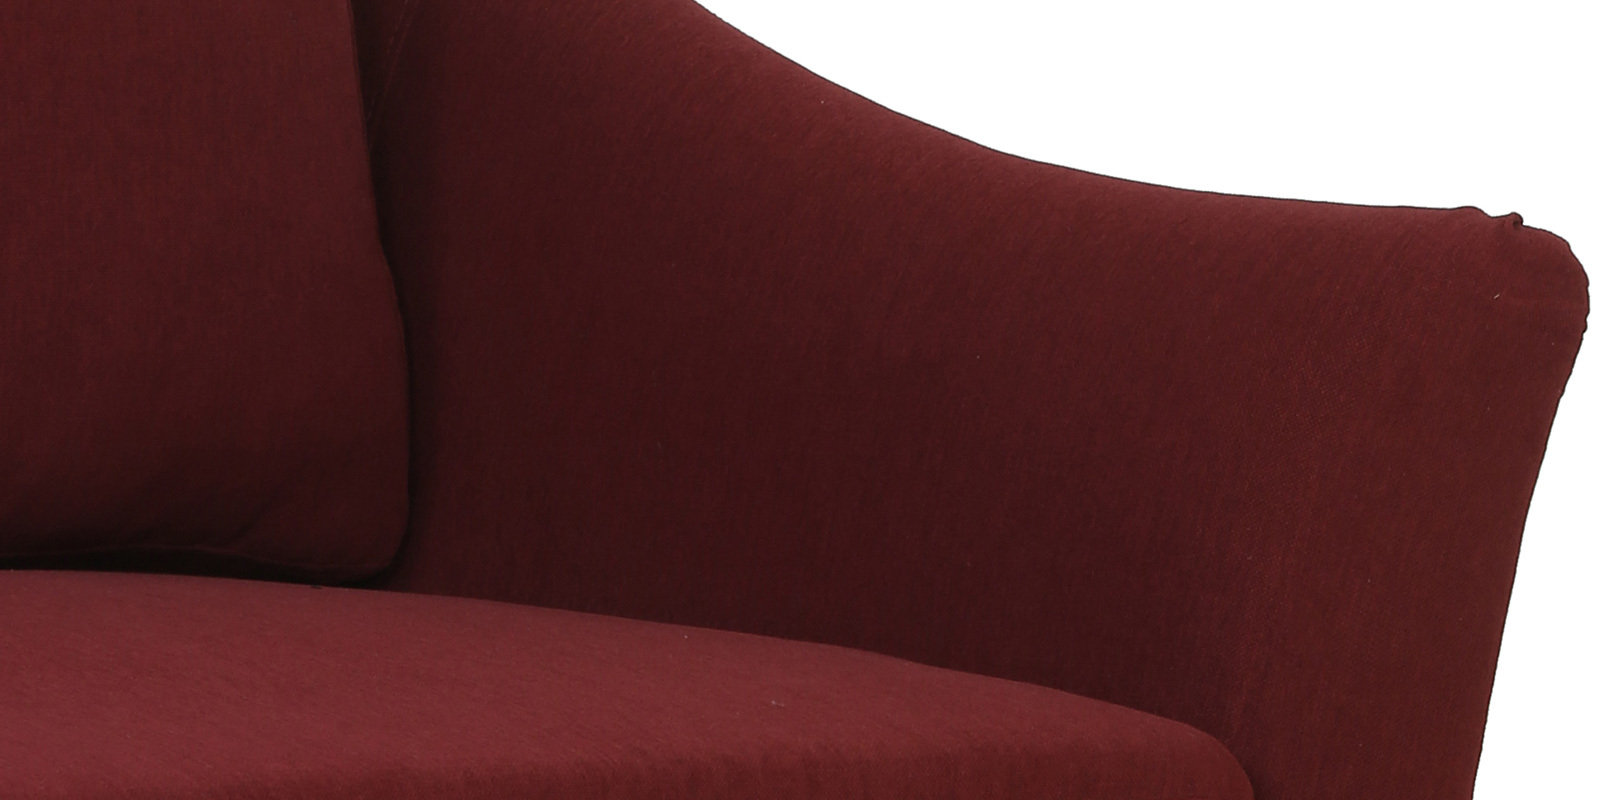Juan Three Seater Sofa in Garnet Red Colour by CasaCraft: (3, 1, 1600, 789)
